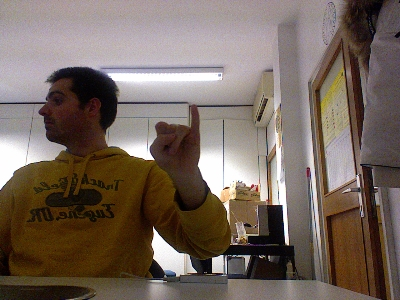小指: (148, 102, 202, 171)
